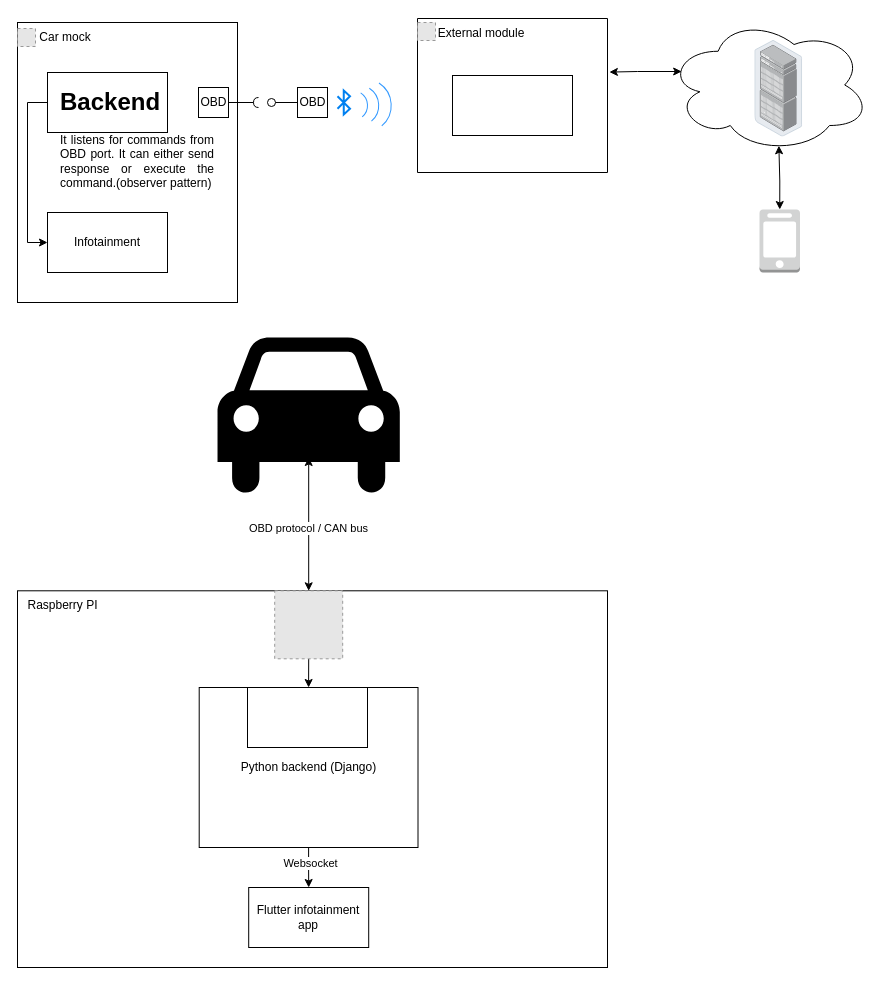
Image size: 888x985. Some labels were removed from this diagram. Grey dashed boxes stand in for pictures. Here are the shapes that lost their labels. From the top down, the centre of each, then its label:
At (512,105): "Backend with connection to REST API".
At (307,717): "Python OBD library".
